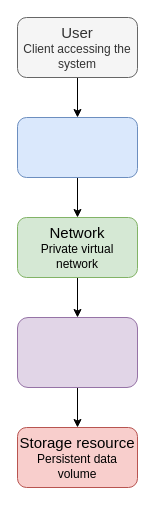
Image size: 155x505. Some labels were removed from this diagram. The shapes that lost their labels are listed below. From the top down, each one's centre as x and y in pixels, then its label:
At (77,147): "Internet Public network link".
At (77,352): "Computer Resource Virtual machine / server".
